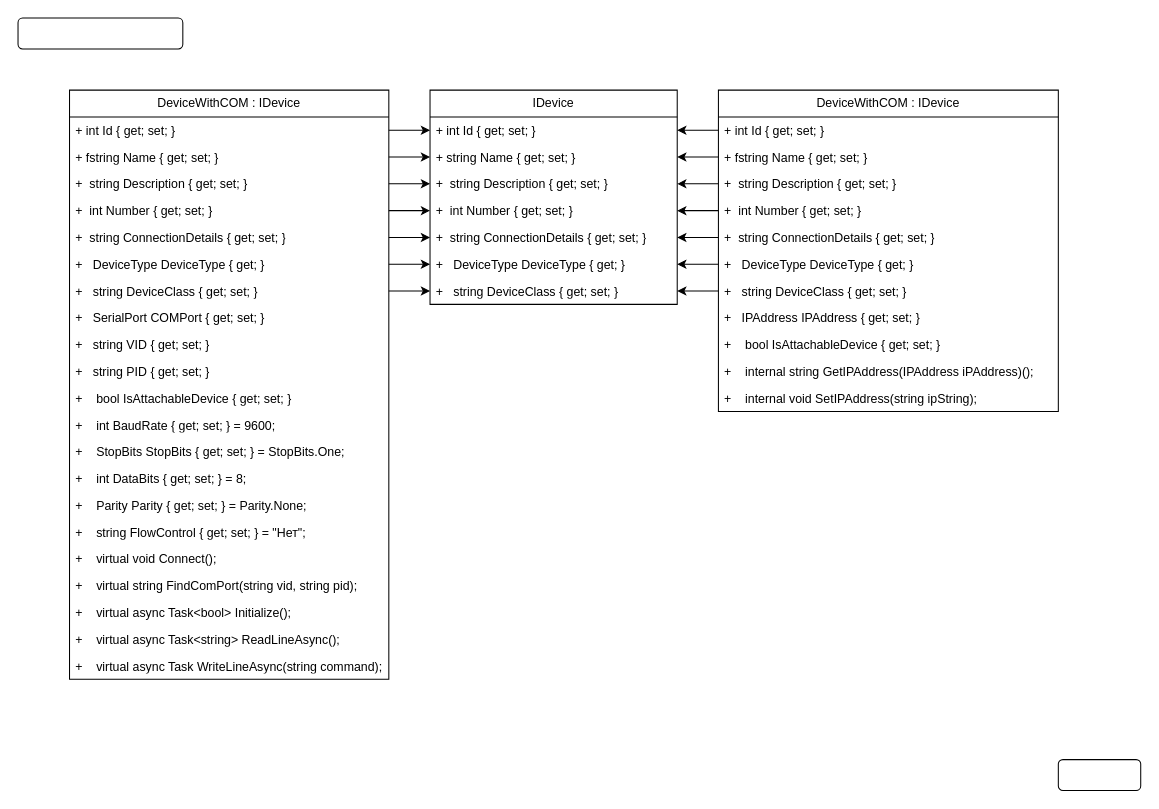
The diagram is 1159 pixels wide and 809 high, and some of its shapes have lost their labels. The centre of each missing label's shape, as x and y in pixels:
"Базовые св-ва устройств" goes at (100,33).
"страница 1" goes at (1099,775).
